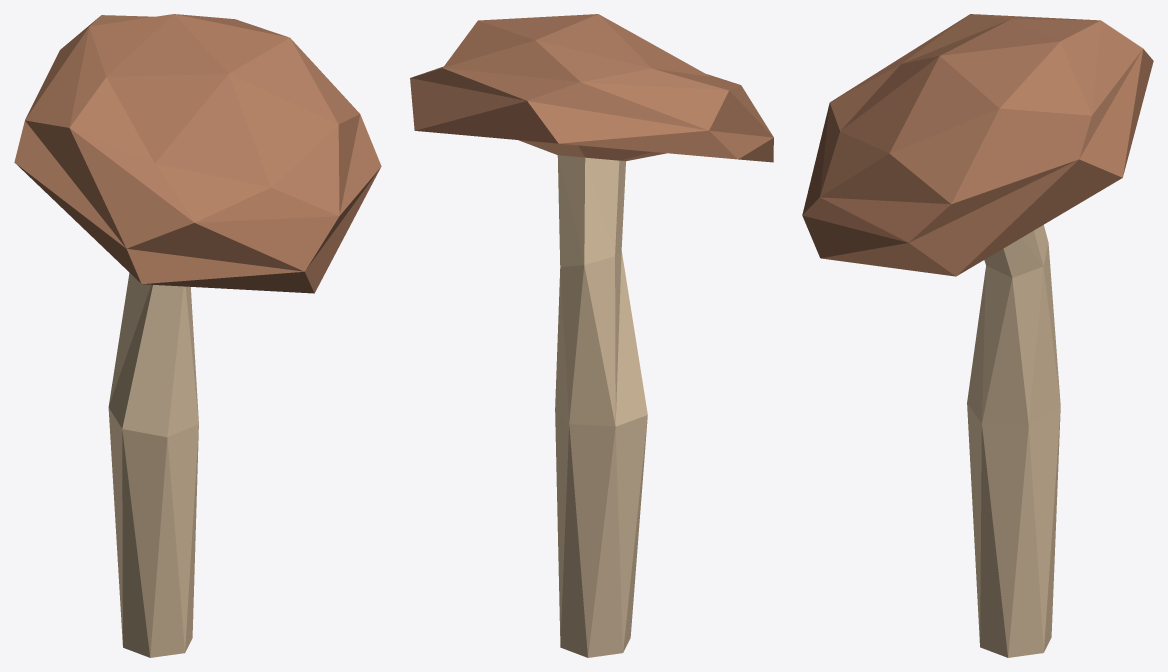
Rendered from Mushroom 7_3.fbx.
3 renders of one model, left to right at view 1: azimuth 30°, elevation 25°; view 2: azimuth 150°, elevation 25°; view 3: azimuth 270°, elevation 25°, orthographic. The views are drawn at different scales.
Visible parts, largest first — view 1: Mushroom 7_3; view 2: Mushroom 7_3; view 3: Mushroom 7_3.
Part boxes in pixels (box(x1,y1,x2,y2)): Mushroom 7_3: box(14, 14, 381, 657); Mushroom 7_3: box(410, 14, 773, 657); Mushroom 7_3: box(802, 14, 1153, 657).
Bounding box in the file's own units: 0.2079 × 0.3798 × 0.1951.
